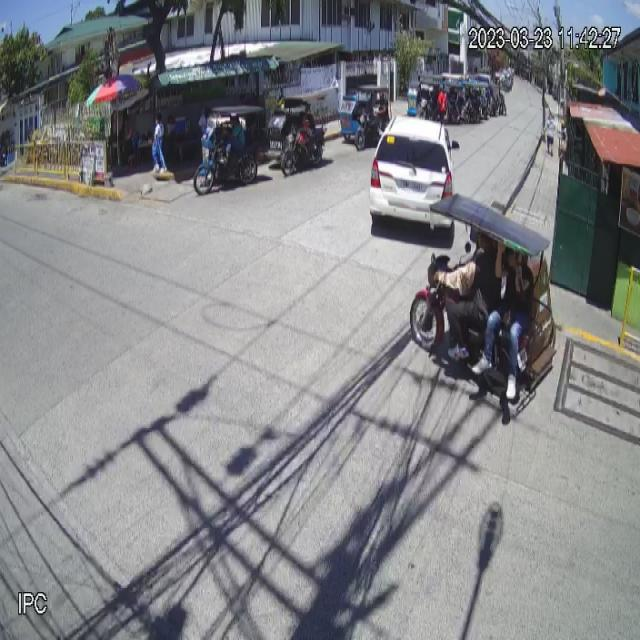Car: (368, 116, 460, 237)
Tricycle: (404, 193, 558, 404)
